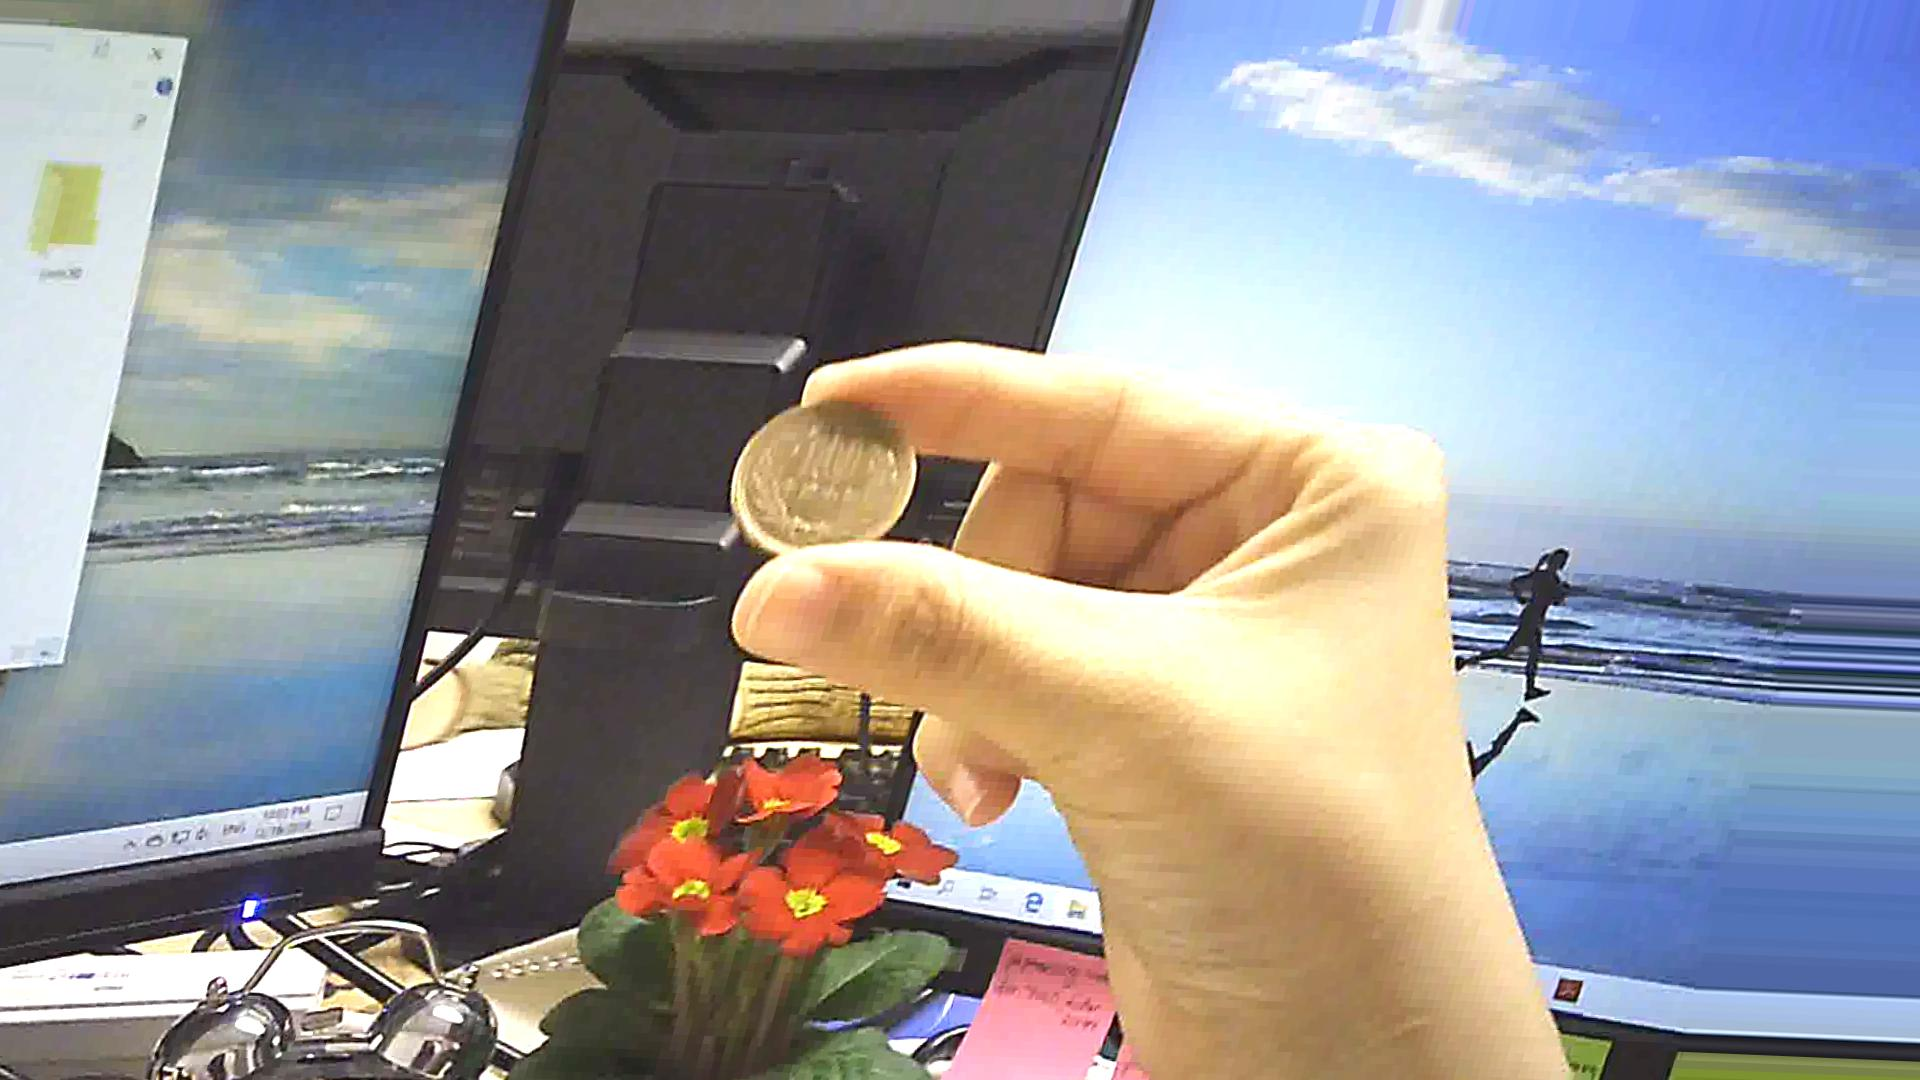10 Yen: (720, 382, 934, 579)
